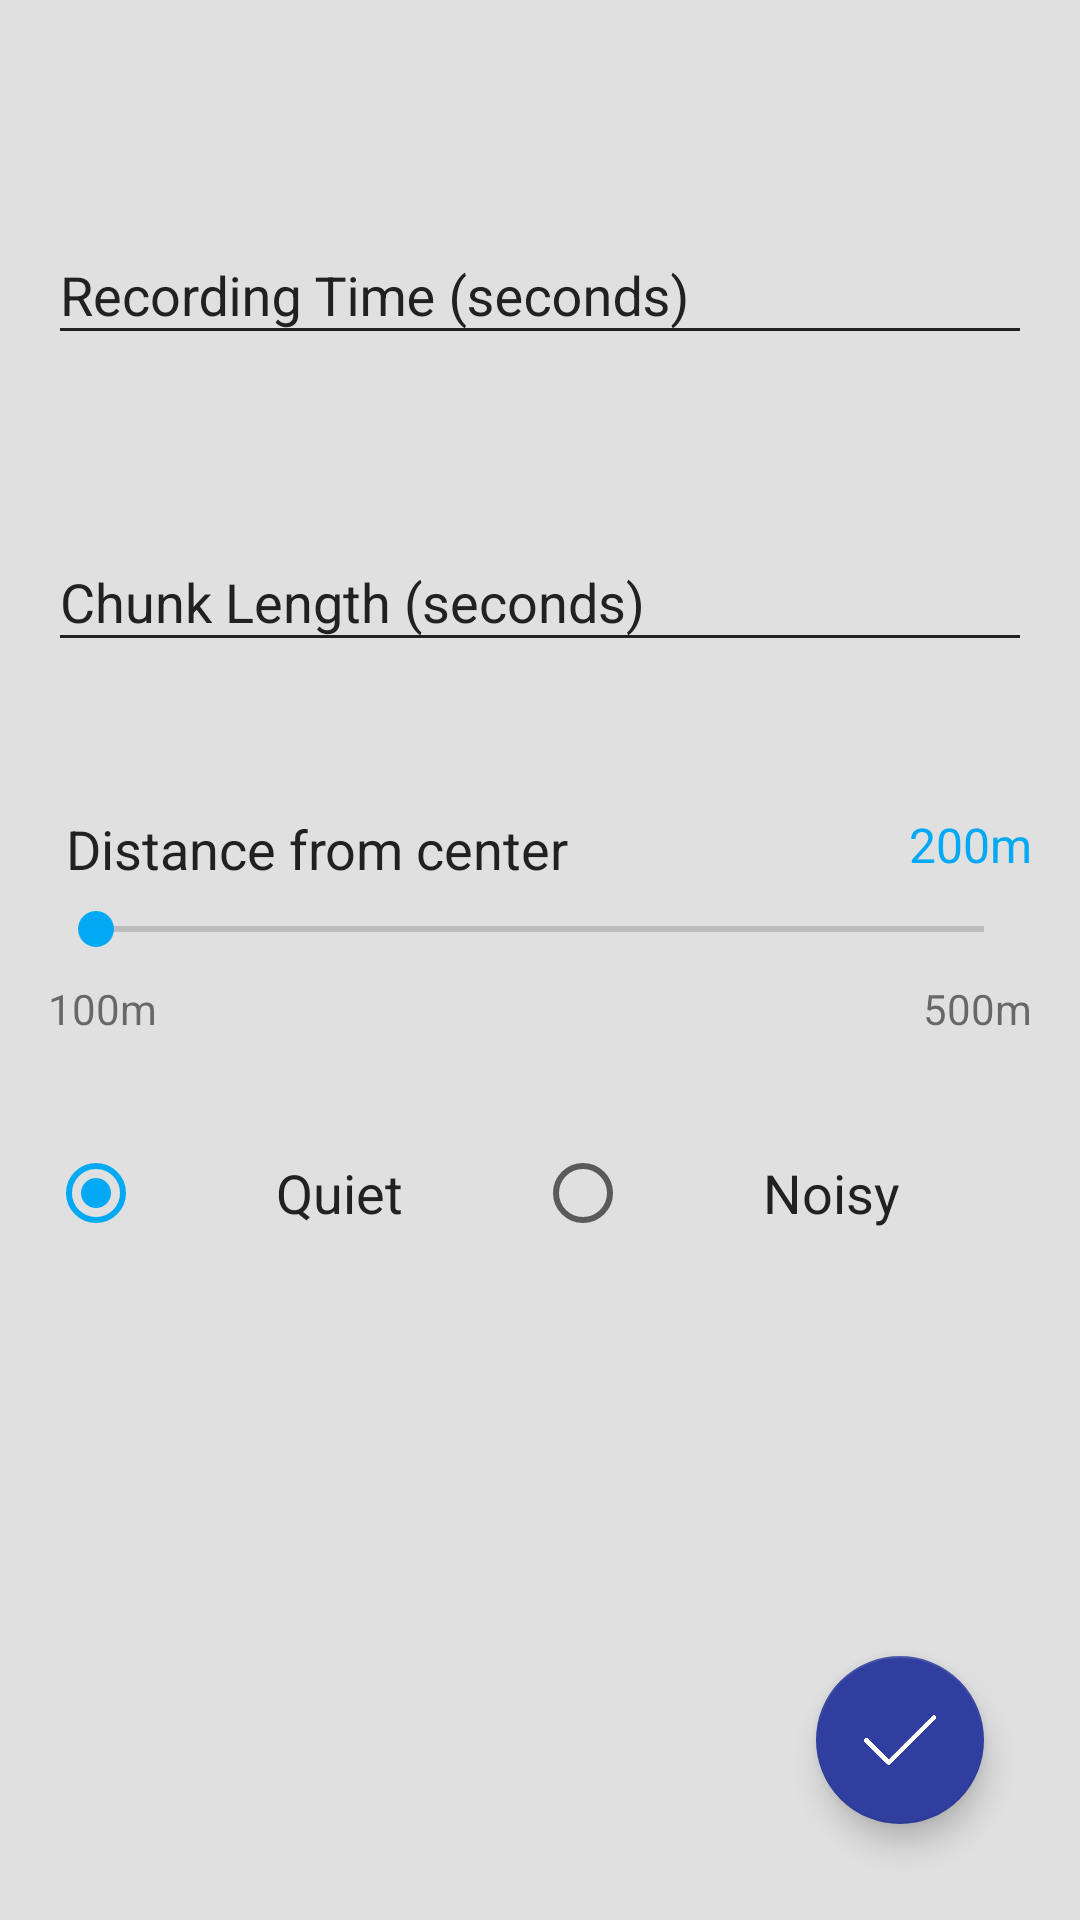

Screen size 1080 × 1920. Icon name, then its center in pixels as (x,y):
check: (900,1740)
